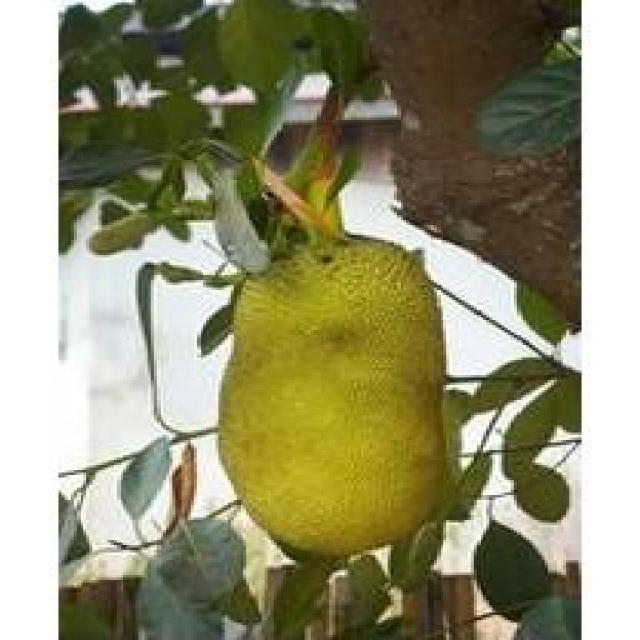Fruit: (191, 225, 477, 585)
